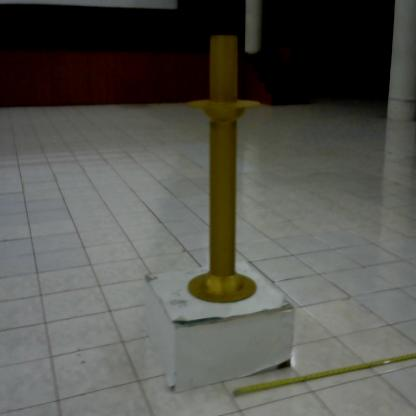pole: (181, 23, 269, 309)
